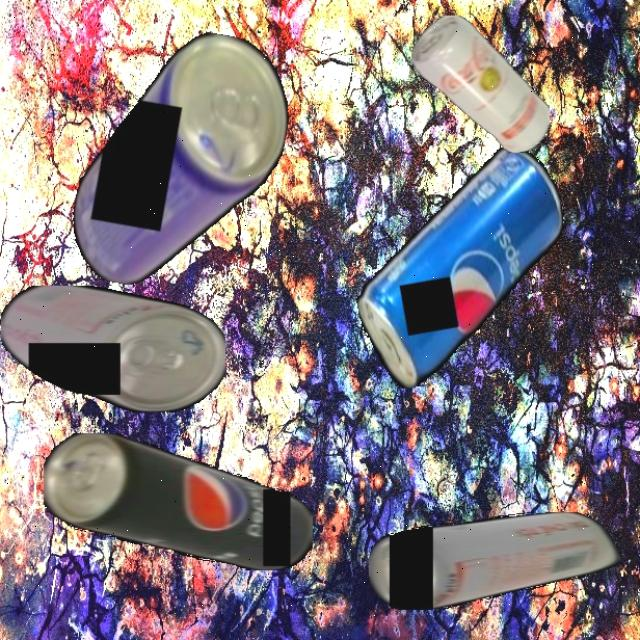debris: (64, 16, 300, 306), (336, 139, 587, 394), (44, 432, 312, 570), (0, 285, 225, 412), (369, 511, 620, 610), (410, 16, 550, 152)
